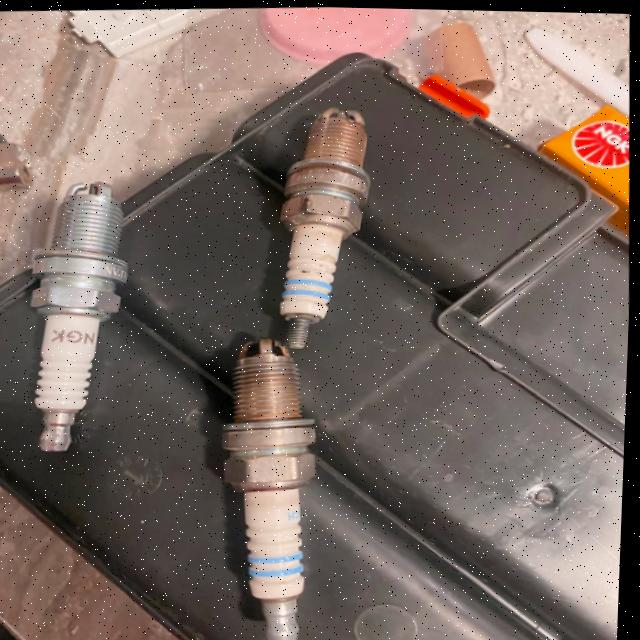spark-plug: (206, 333, 346, 640), (260, 86, 399, 348), (21, 173, 137, 462)
